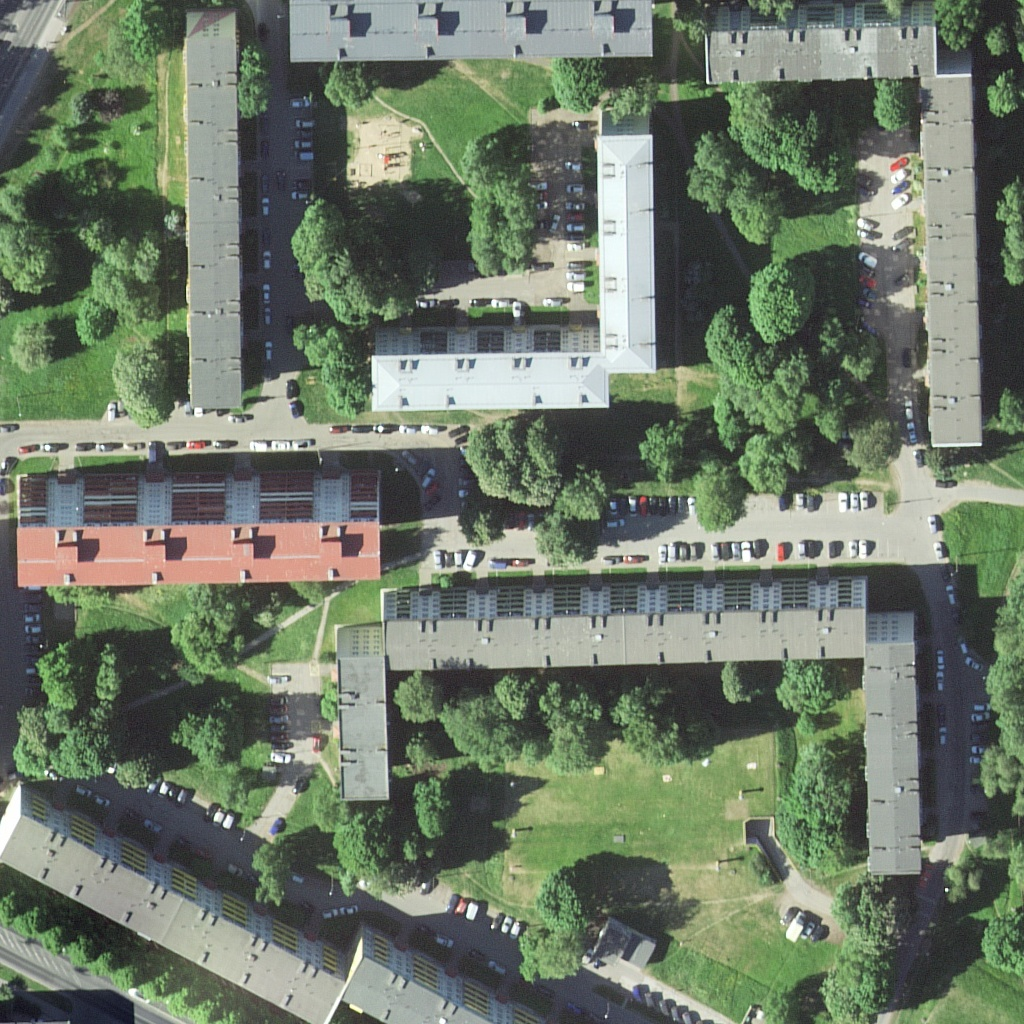building: (5, 779, 339, 1024), (387, 579, 864, 672), (24, 477, 391, 588), (181, 12, 244, 412), (920, 66, 985, 450), (289, 1, 654, 68), (371, 323, 620, 415), (701, 1, 940, 86), (596, 108, 660, 379), (864, 610, 928, 879), (345, 928, 502, 1024), (341, 622, 392, 812)
